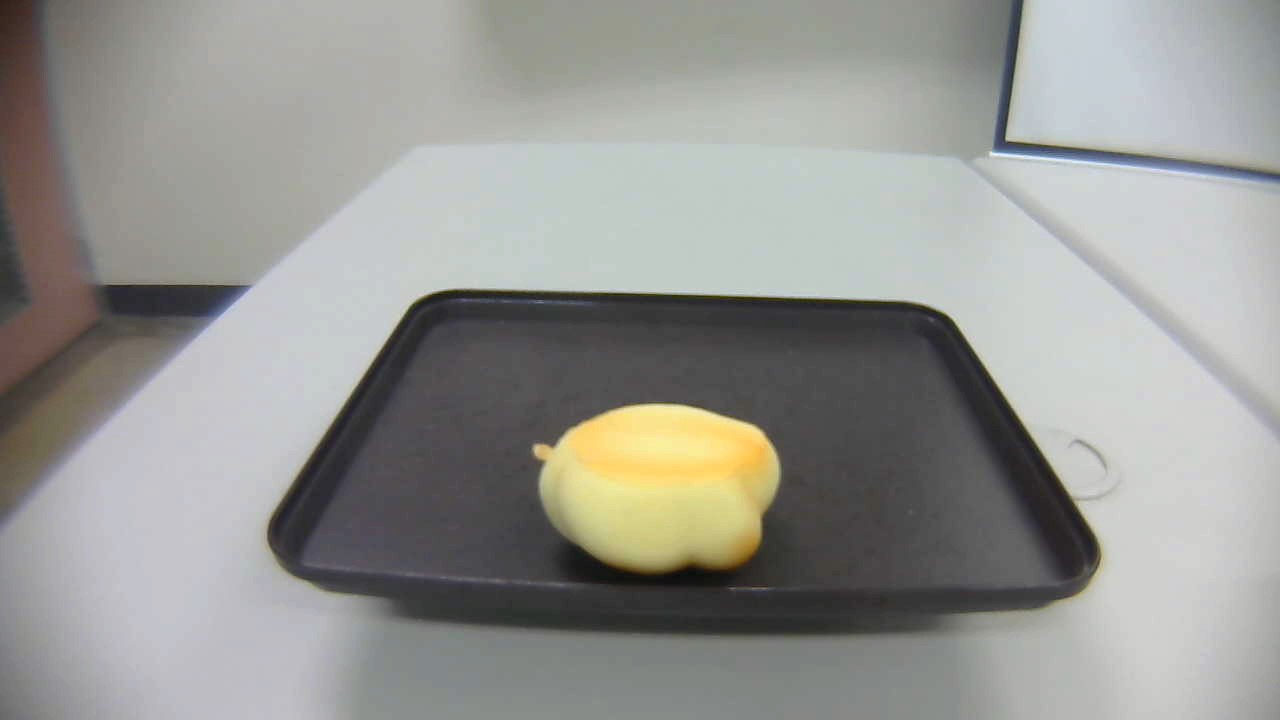twist bread: (536, 404, 782, 577)
